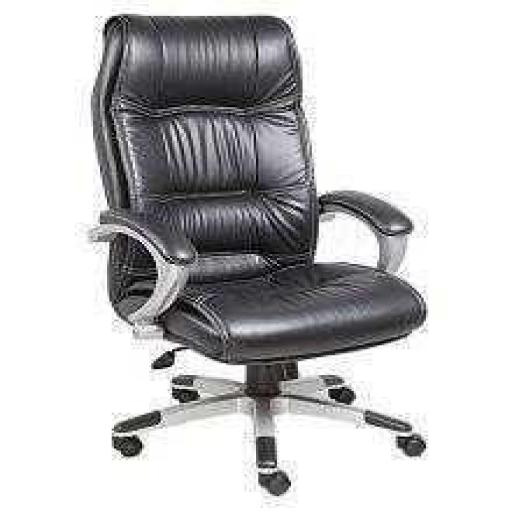chair: (77, 5, 433, 497)
